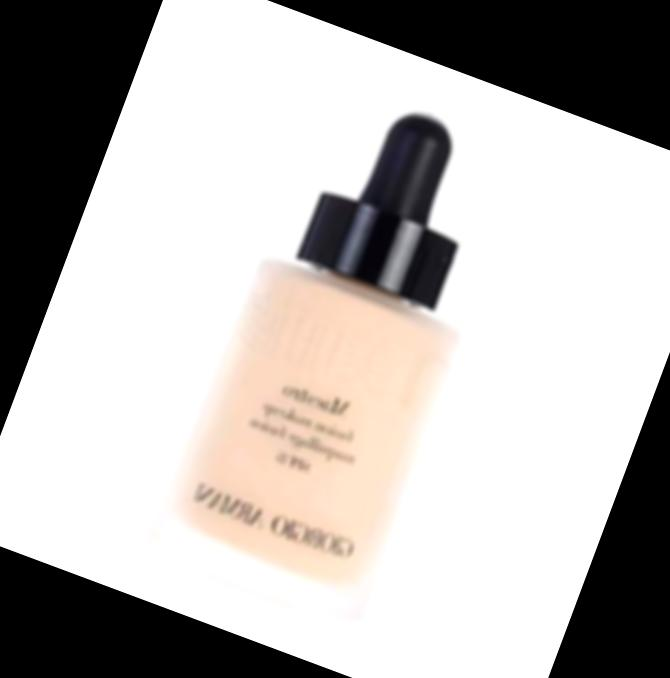cosmetic: (148, 74, 539, 625)
